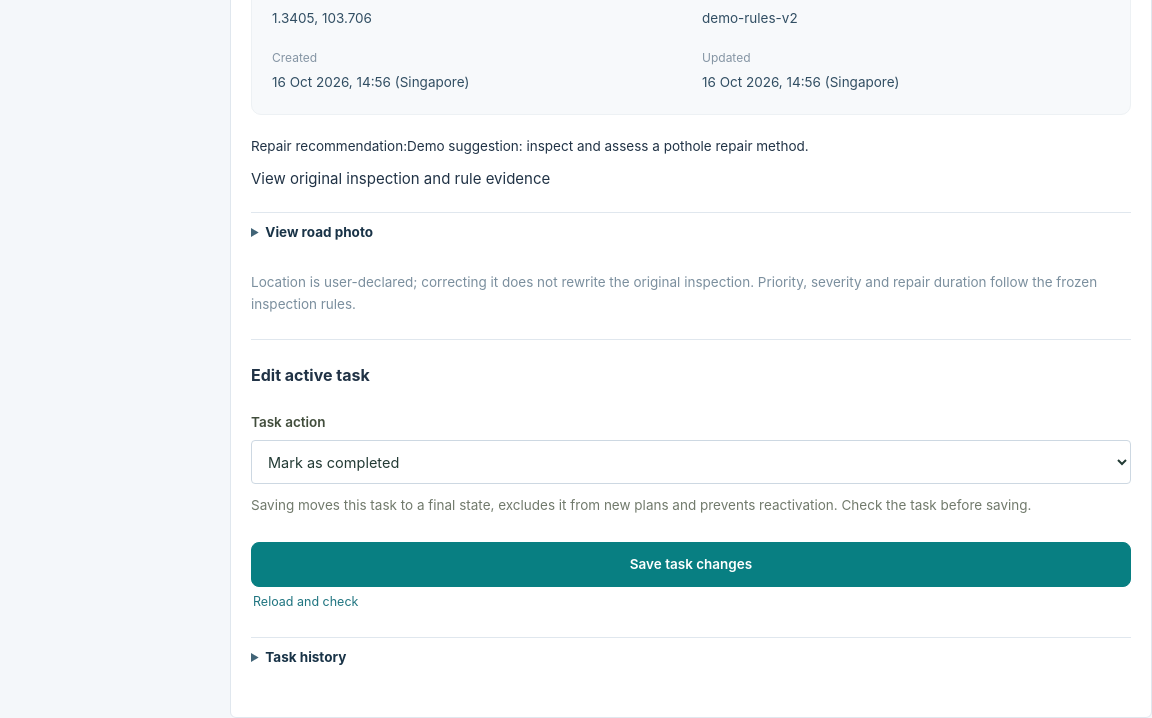
Test: shows no input change for an acknowledged no-op
The width and height of the screenshot is (1152, 718).
(page scrolled)
Select "Correct damage label" in the dropdown labelled "Task action". click: [691, 462]
box: [251,440,1131,484]
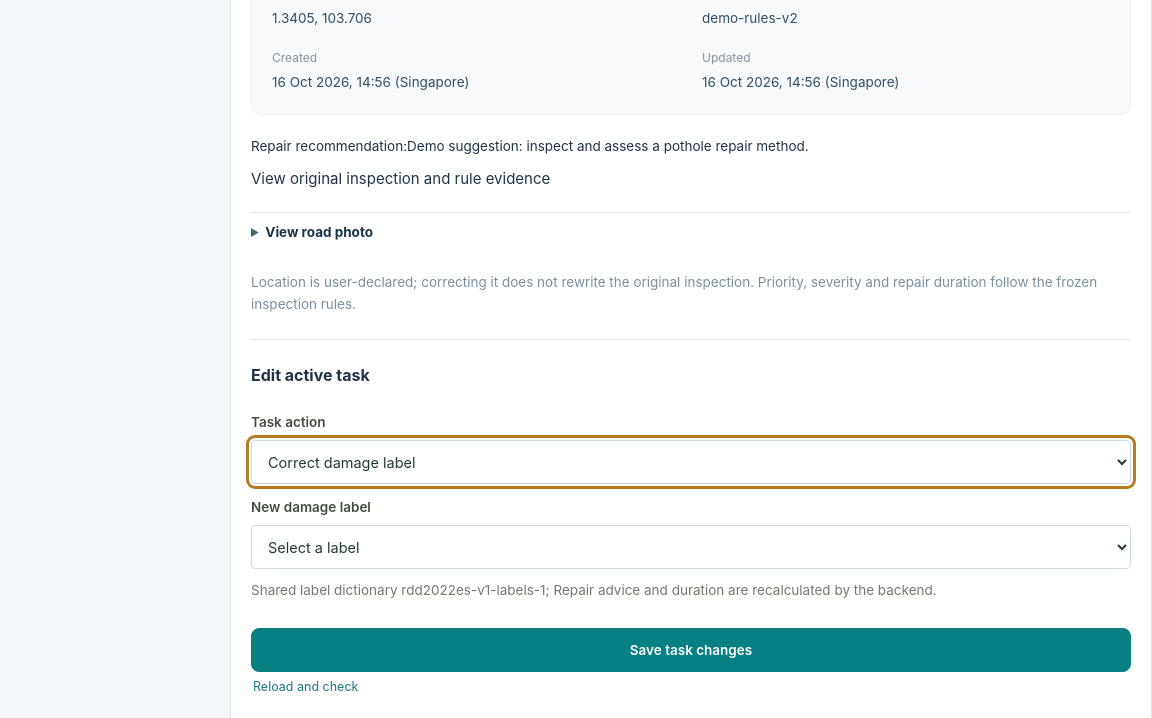
Select "Pothole · pothole" in the dropdown labelled "New damage label". click: [691, 547]
box: [251,525,1131,569]
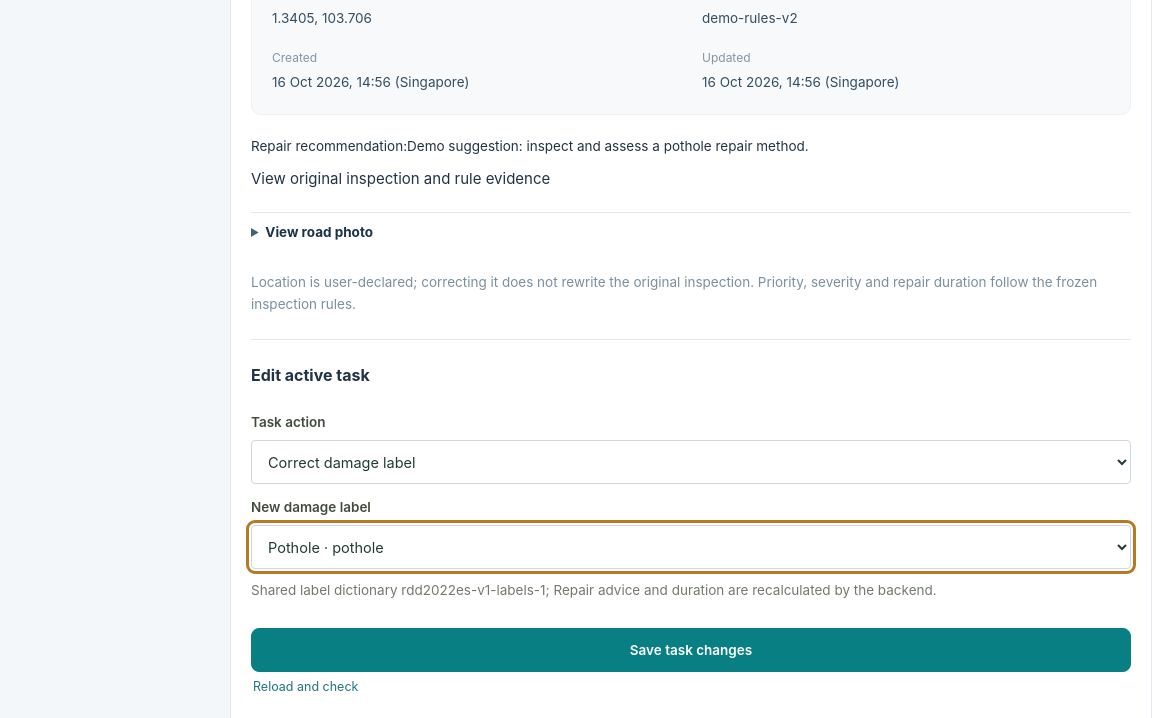
Click the button "Save task changes". click: [691, 650]
box: [251,628,1131,672]
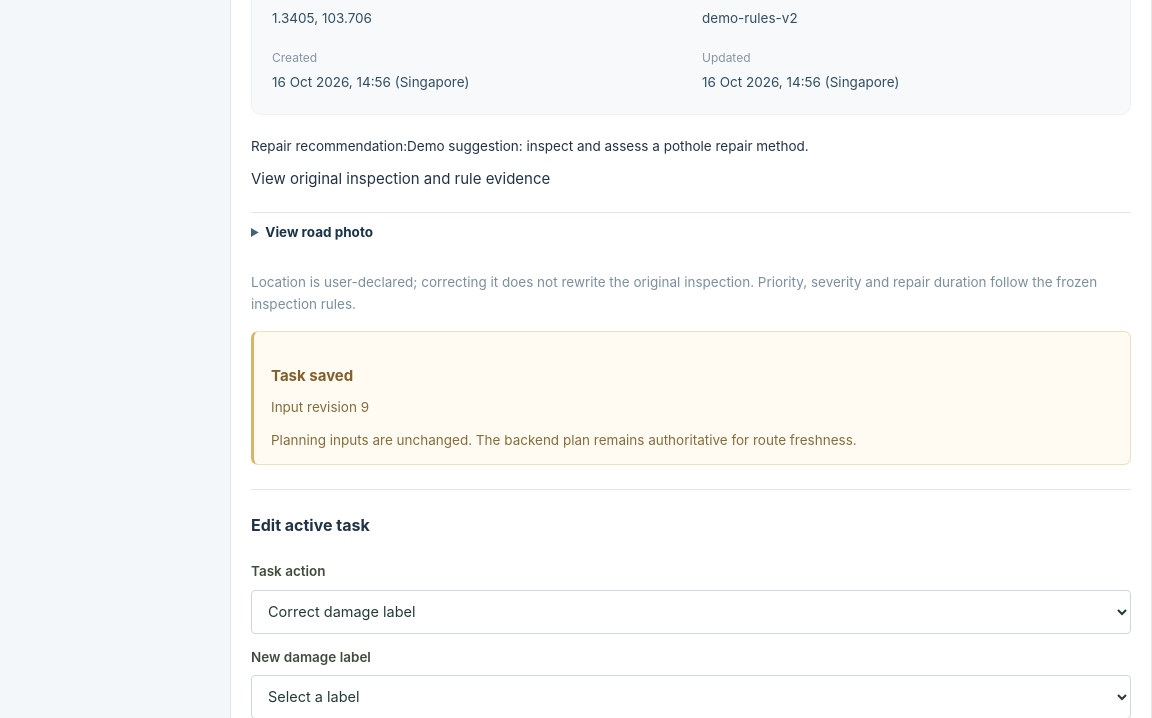
Now the text "Planning inputs are unchanged" is shown, box [271,432,857,448]
